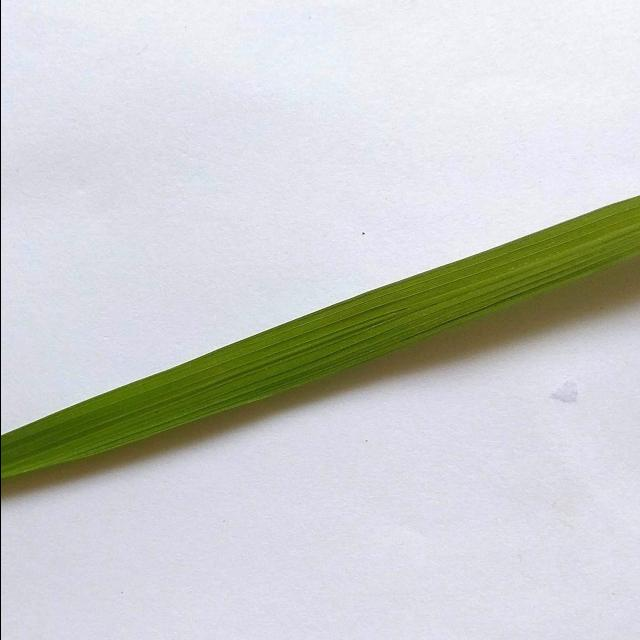healthy: (0, 158, 640, 500)
